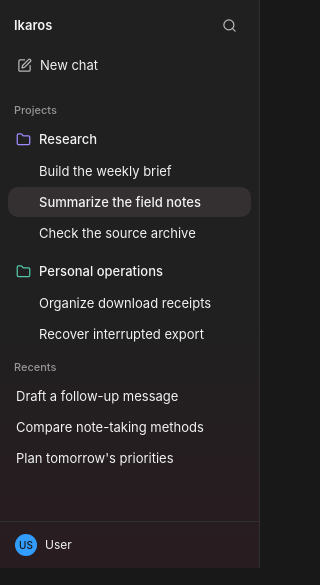
Test case: Sidebar conversation ownership › uses one project icon, keeps child selection full-width, and leaves recents icon-free
What coordinates should you click on to do the following:
click the button "Research"
I would click on:
 (104, 139)
Its box is [16,124,193,154].
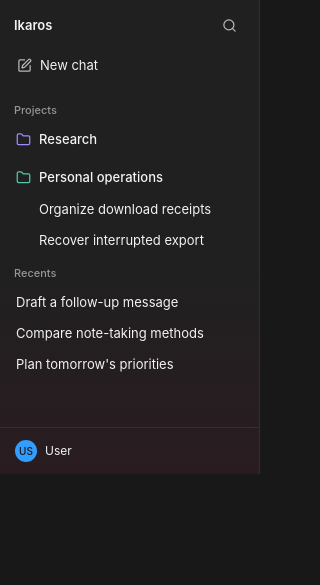
Now the button "Summarize the field notes" is gone
What coordinates should you click on to do the following:
click the button "Research"
I would click on:
 (104, 139)
Its box is [16,124,193,154].
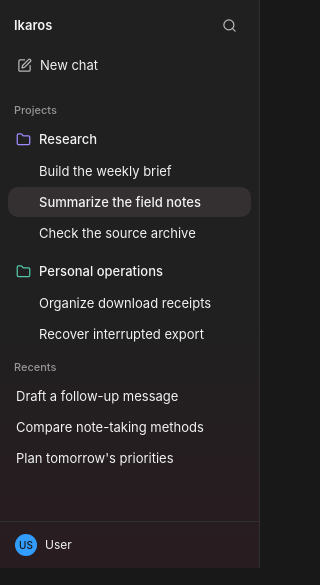
Now the button "Summarize the field notes" is shown, box [39,187,217,217]
